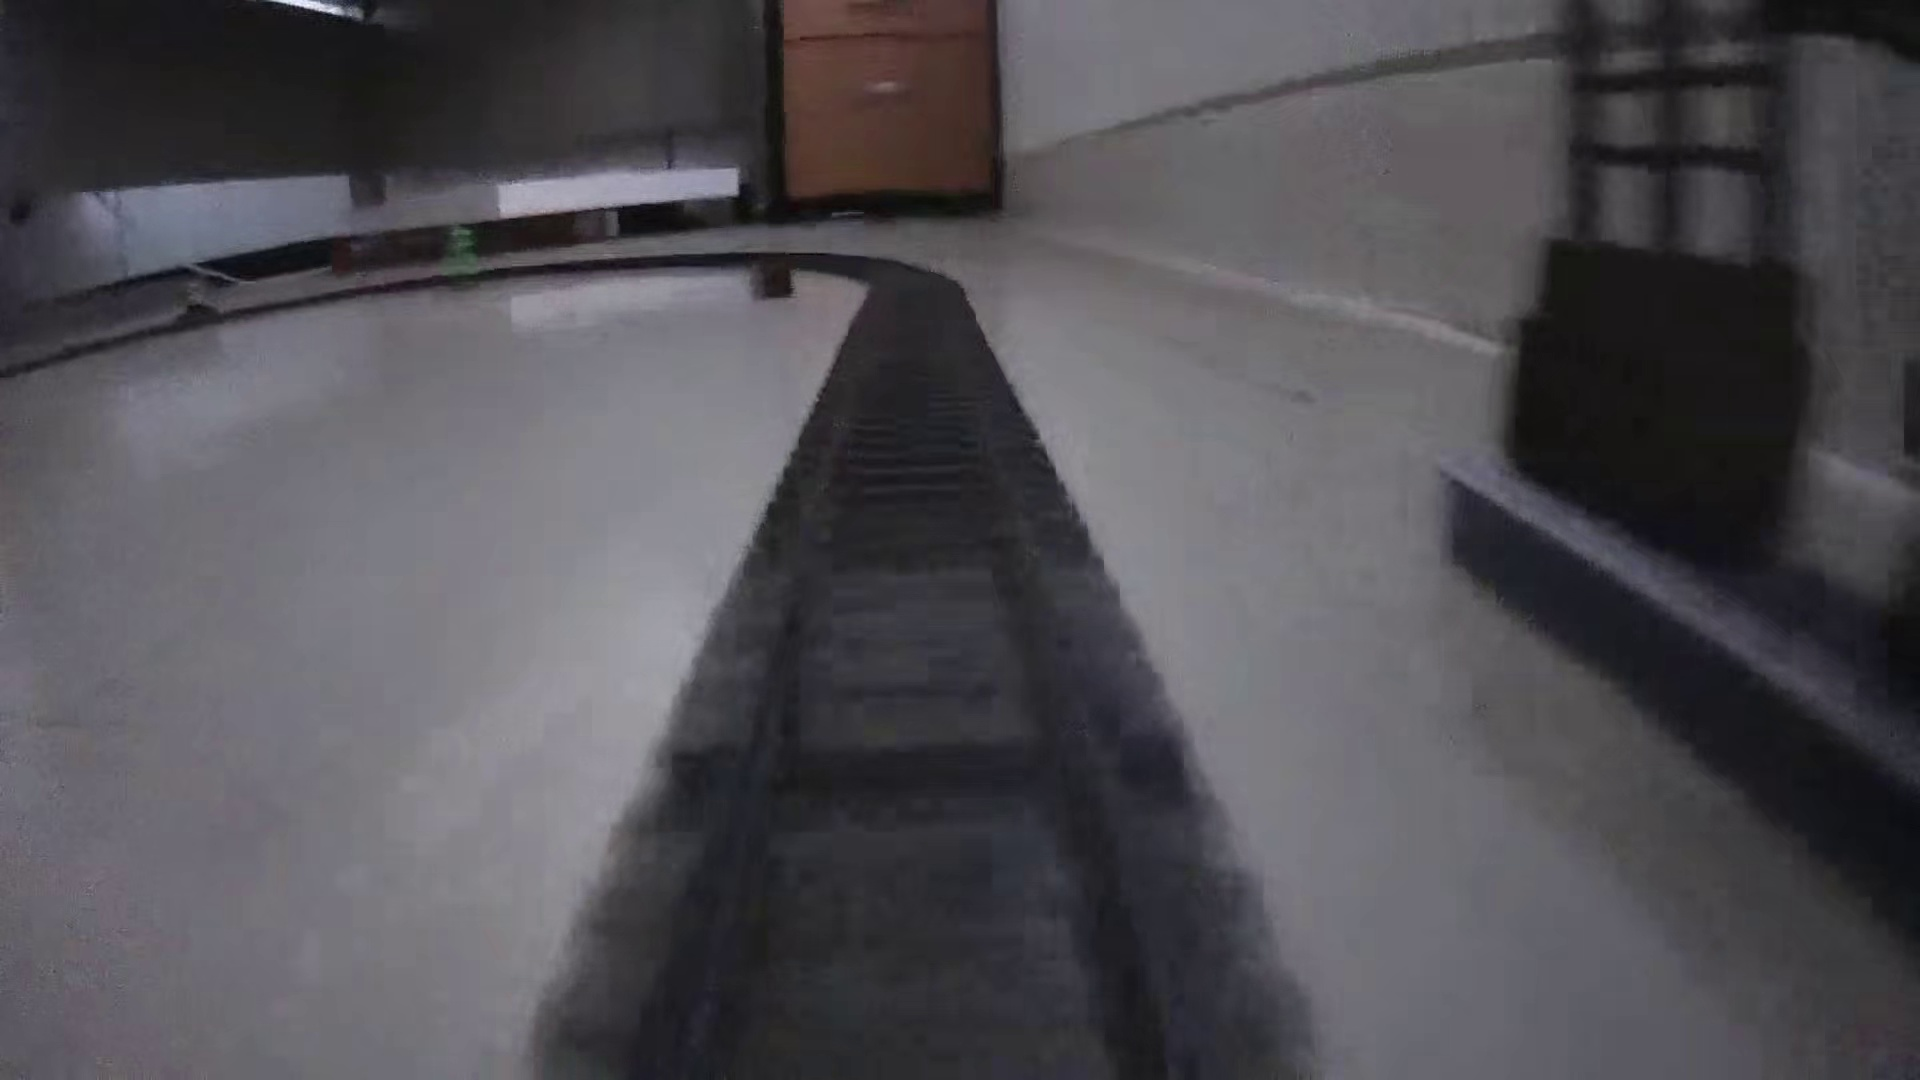box: (742, 254, 799, 301)
tree: (439, 218, 485, 294)
